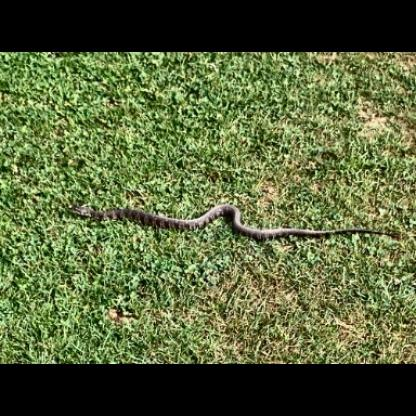Snake: (1, 188, 413, 245)
